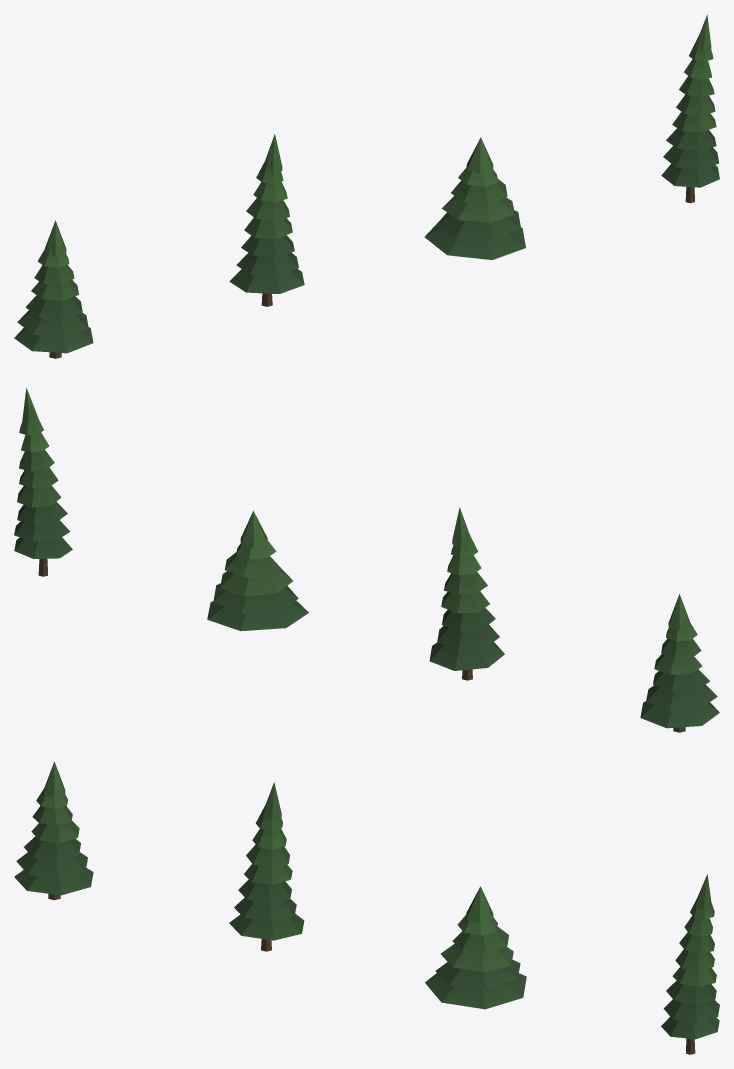
File: tree_kit.glb
3 views of the same model, one above another, from view 1: azimuth 30°, elevation 25°; view 2: azimuth 150°, elevation 25°; view 3: azimuth 330°, elevation 25° (orthographic).
Visible parts, largest first — view 1: tree_conifer_c, tree_conifer_b, tree_conifer_d, tree_conifer_a; view 2: tree_conifer_c, tree_conifer_b, tree_conifer_a, tree_conifer_d; view 3: tree_conifer_c, tree_conifer_b, tree_conifer_a, tree_conifer_d.
Boxes of the visible parts, x1=… form: tree_conifer_c: x1=424, y1=137, x2=525, y2=259; tree_conifer_b: x1=229, y1=134, x2=304, y2=306; tree_conifer_d: x1=661, y1=14, x2=719, y2=203; tree_conifer_a: x1=14, y1=220, x2=93, y2=358; tree_conifer_c: x1=207, y1=511, x2=308, y2=631; tree_conifer_b: x1=429, y1=507, x2=504, y2=680; tree_conifer_a: x1=640, y1=594, x2=719, y2=732; tree_conifer_d: x1=14, y1=387, x2=72, y2=576; tree_conifer_c: x1=425, y1=886, x2=526, y2=1009; tree_conifer_b: x1=229, y1=782, x2=304, y2=951; tree_conifer_a: x1=14, y1=761, x2=93, y2=900; tree_conifer_d: x1=661, y1=874, x2=719, y2=1054.
Bounding box in the file's own units: 6.56 × 1.65 × 0.8423.
